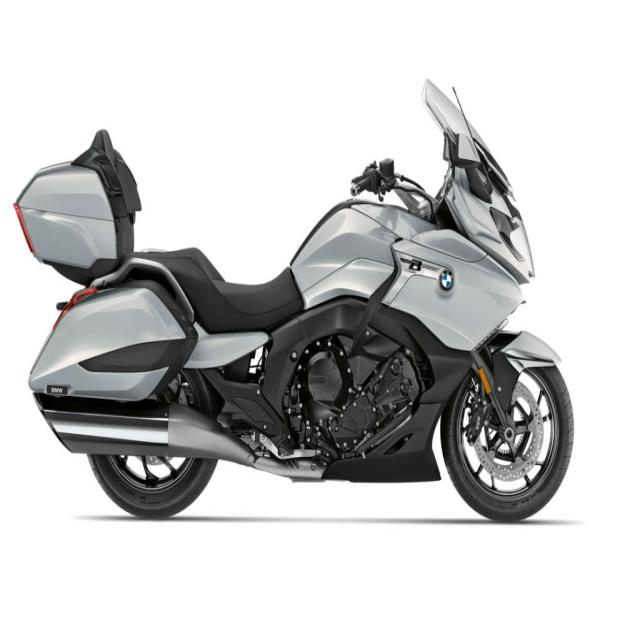Motorcycle: (14, 81, 574, 521)
